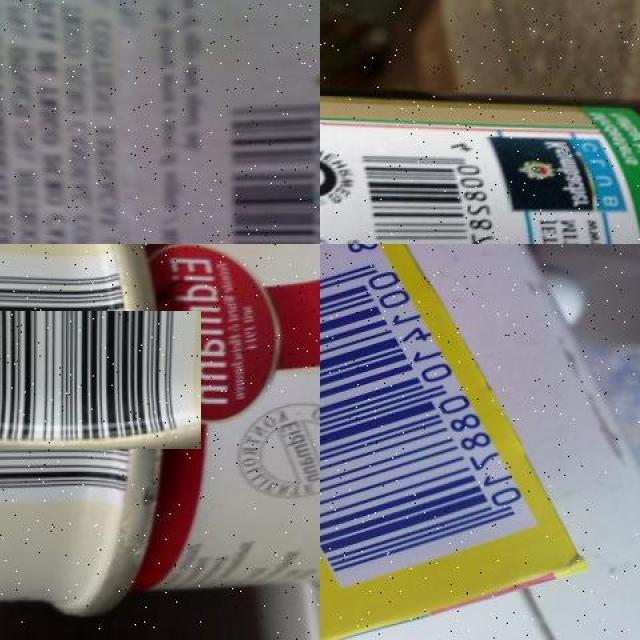Barcode: (320, 244, 544, 593), (0, 281, 169, 481), (213, 63, 320, 244), (358, 137, 510, 244)
